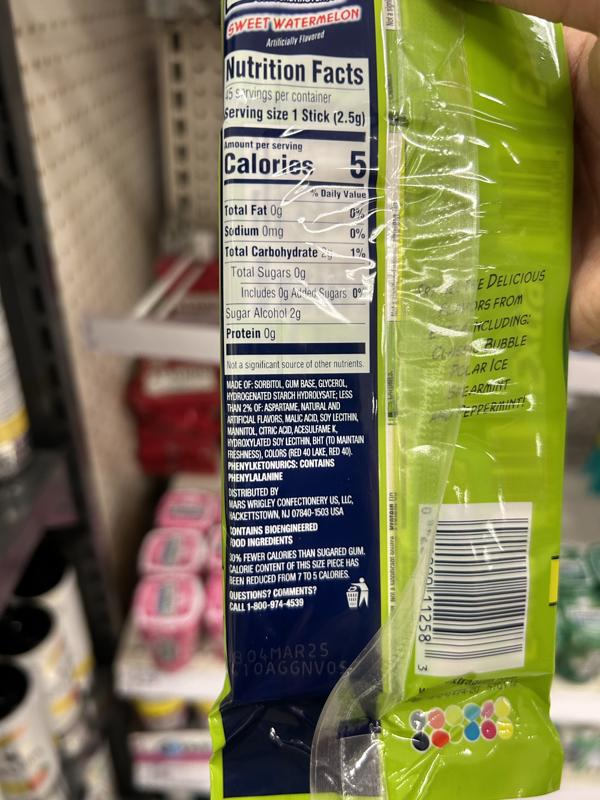ingredients: (223, 379, 368, 459)
